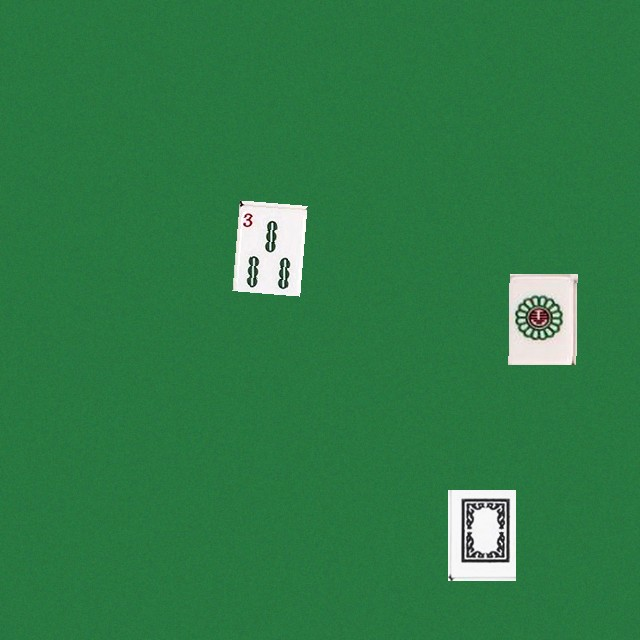tile: (232, 200, 300, 291), (447, 489, 515, 580), (508, 273, 576, 364)
